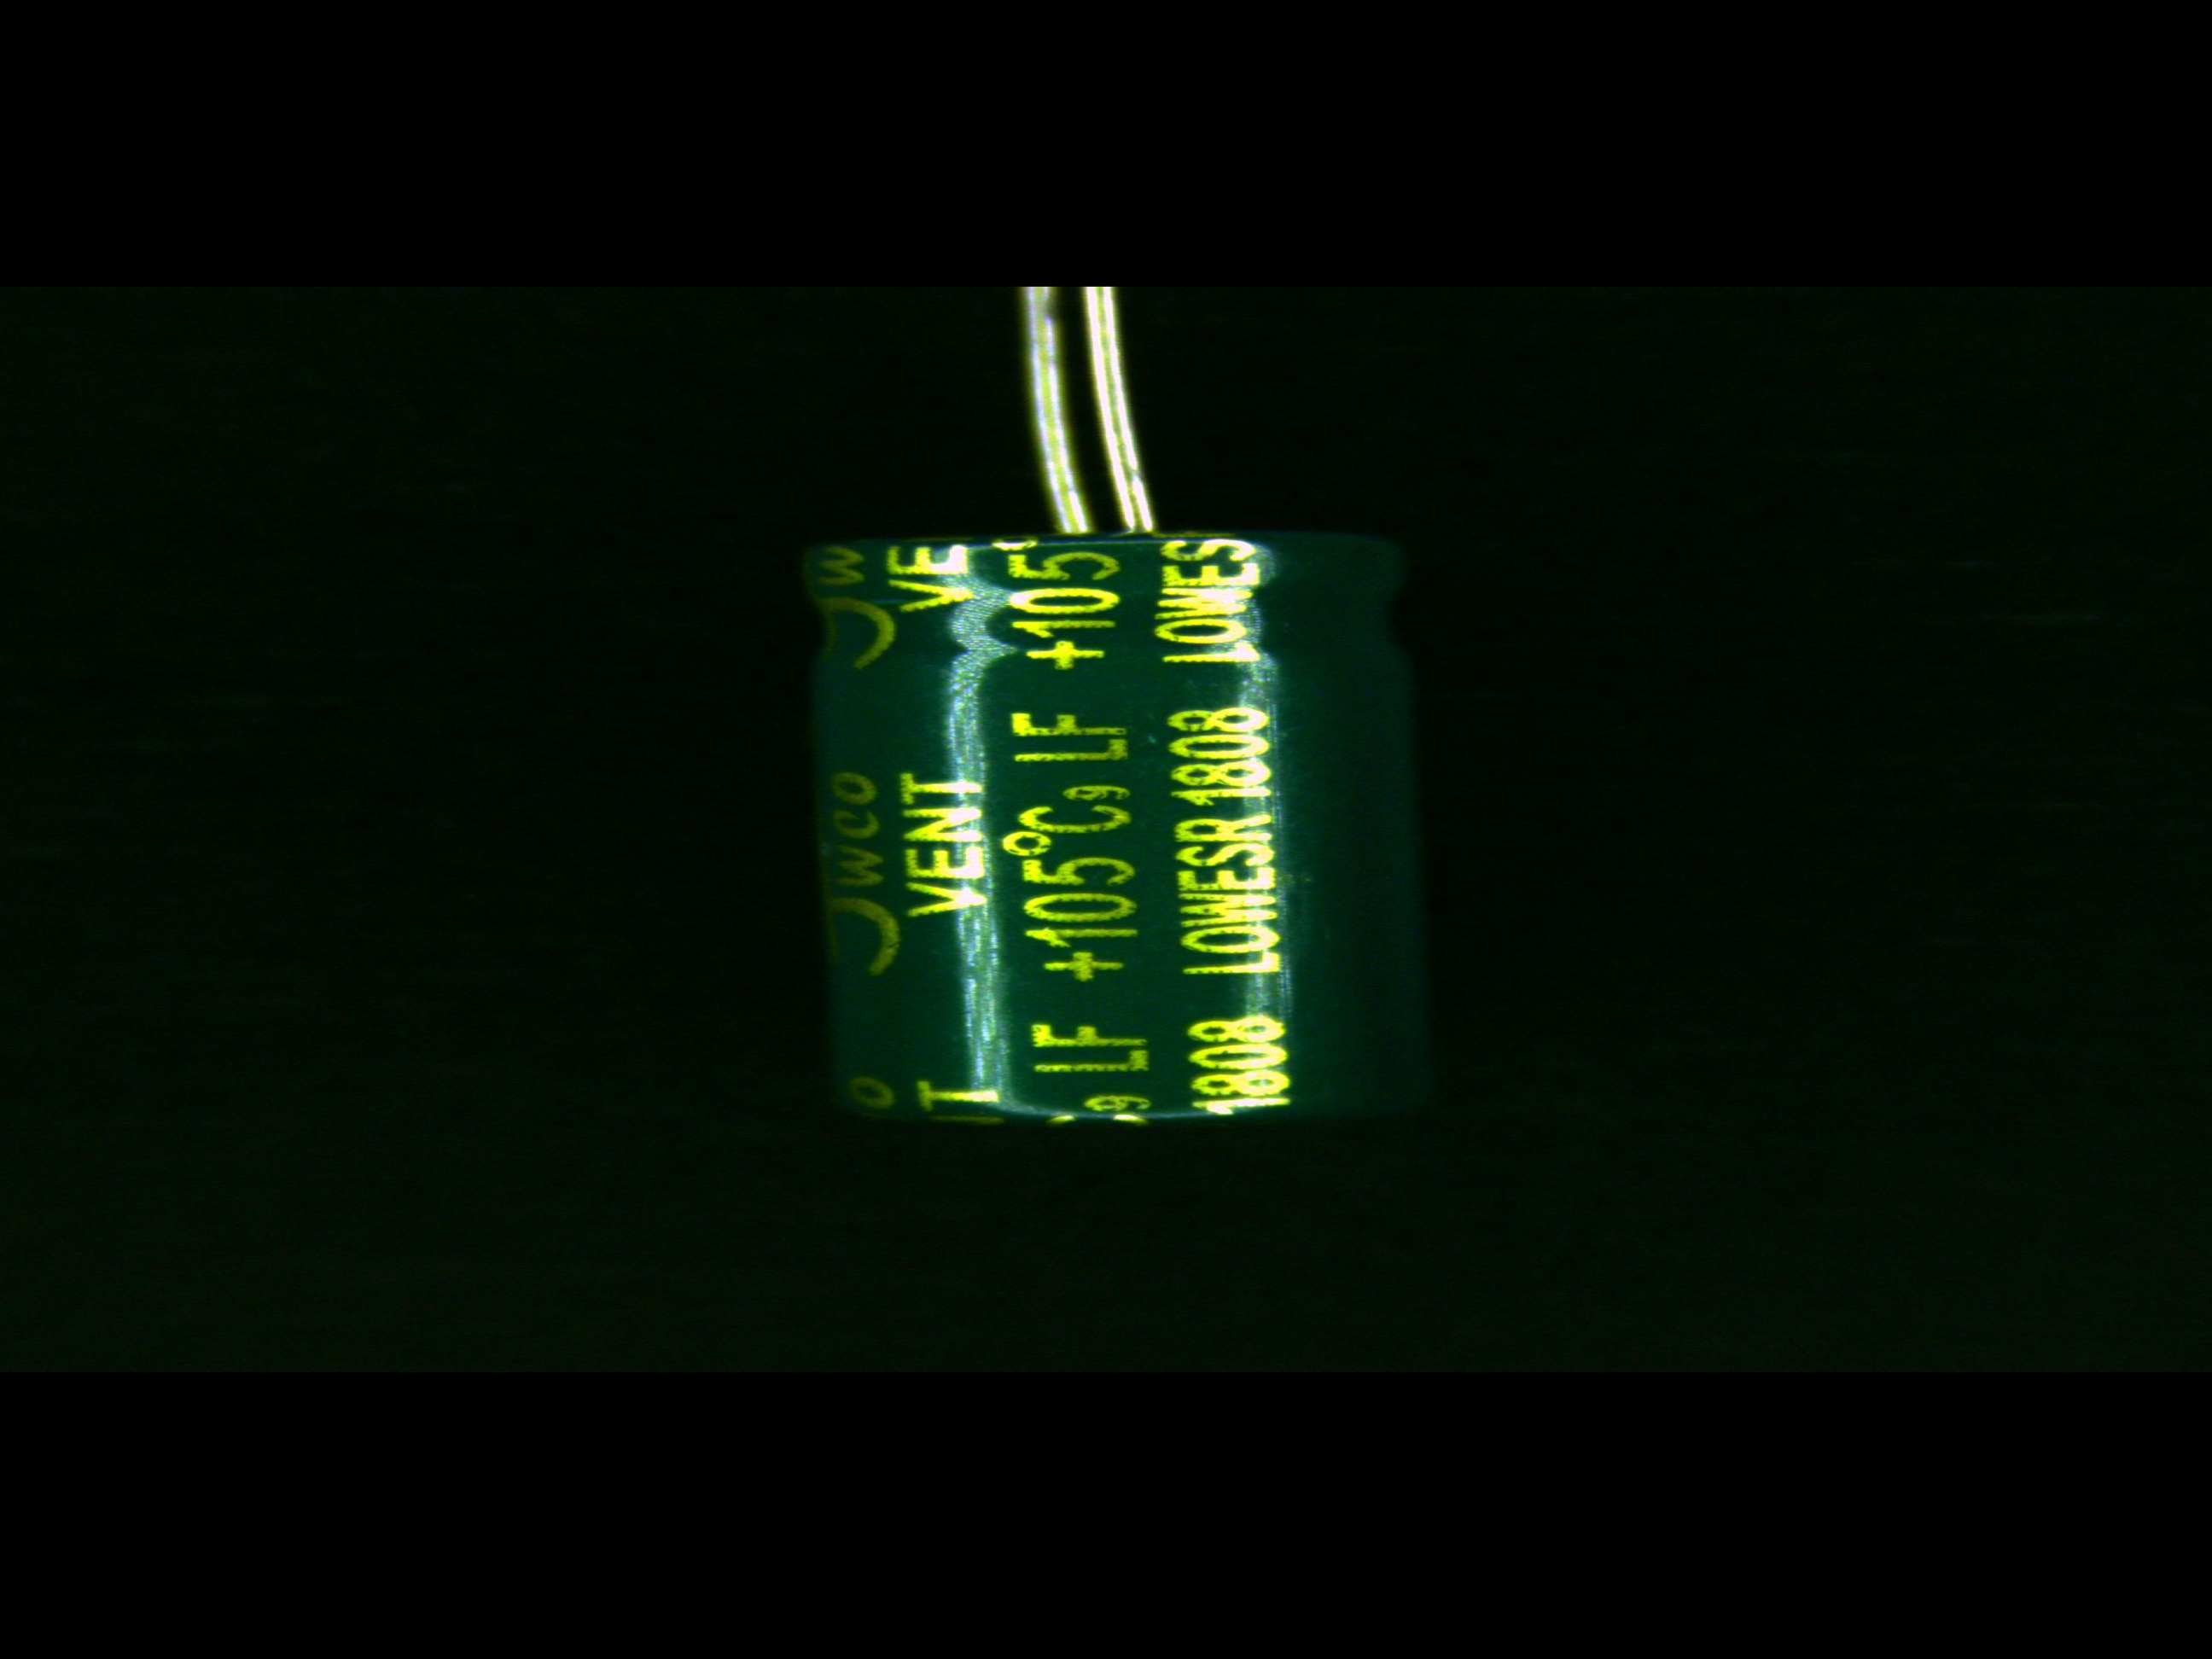c1: (786, 472, 1433, 1122)
